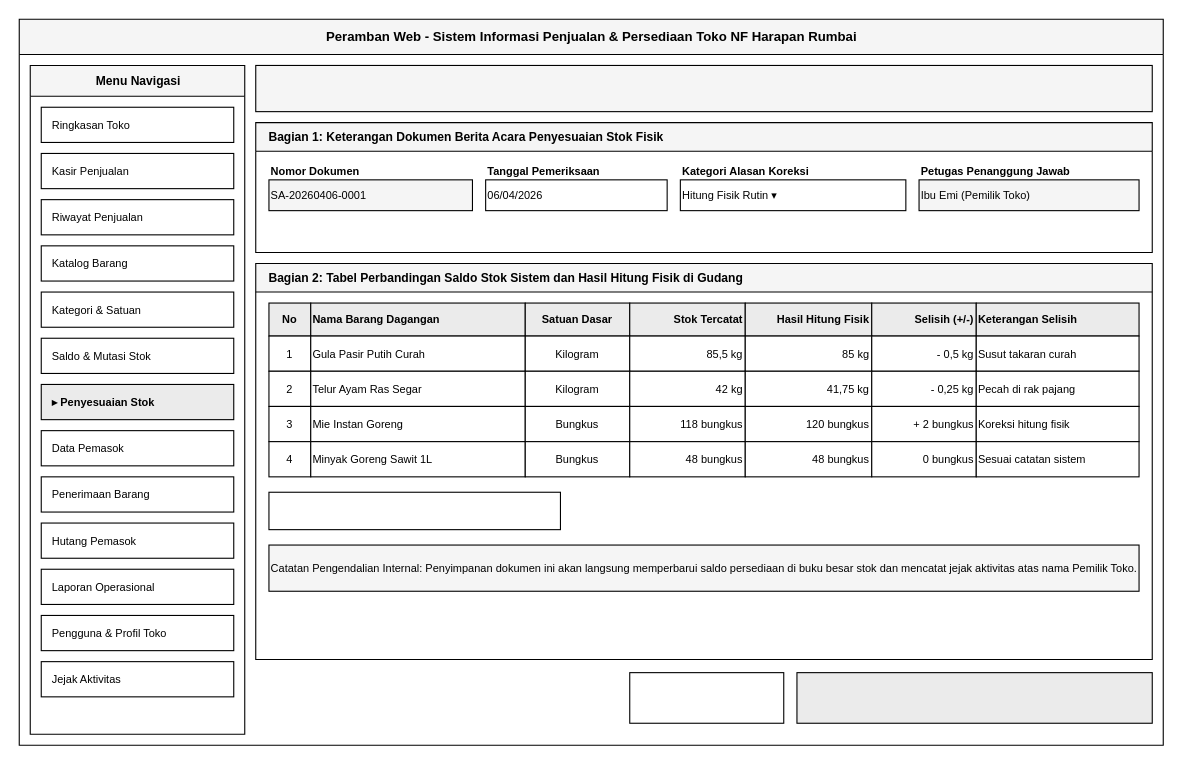
Image size: 1183x765. Some labels were removed from this diagram. The centre of each missing label's shape, as x and y in pixels:
+ Tambah Baris Barang yang Disesuaikan: (414,510)
BATAL: (706,697)
Formulir Penyesuaian Stok Fisik Gudang (Stock Opname): (703,88)
SIMPAN PENYESUAIAN STOK FISIK: (974,697)
